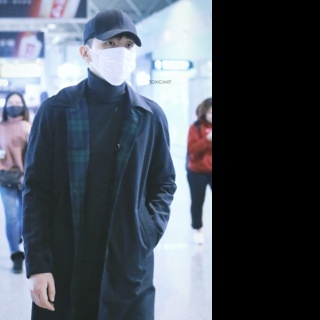with_mask: (92, 36, 137, 86), (5, 96, 24, 117)
